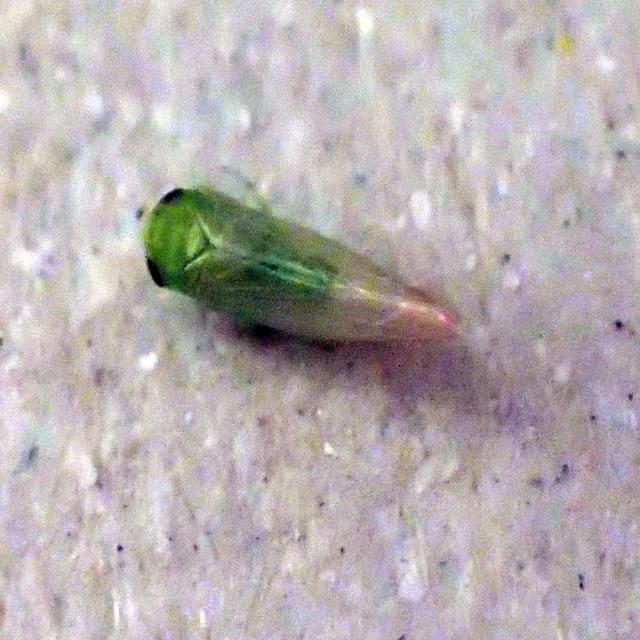Yechan: (106, 154, 482, 373)
